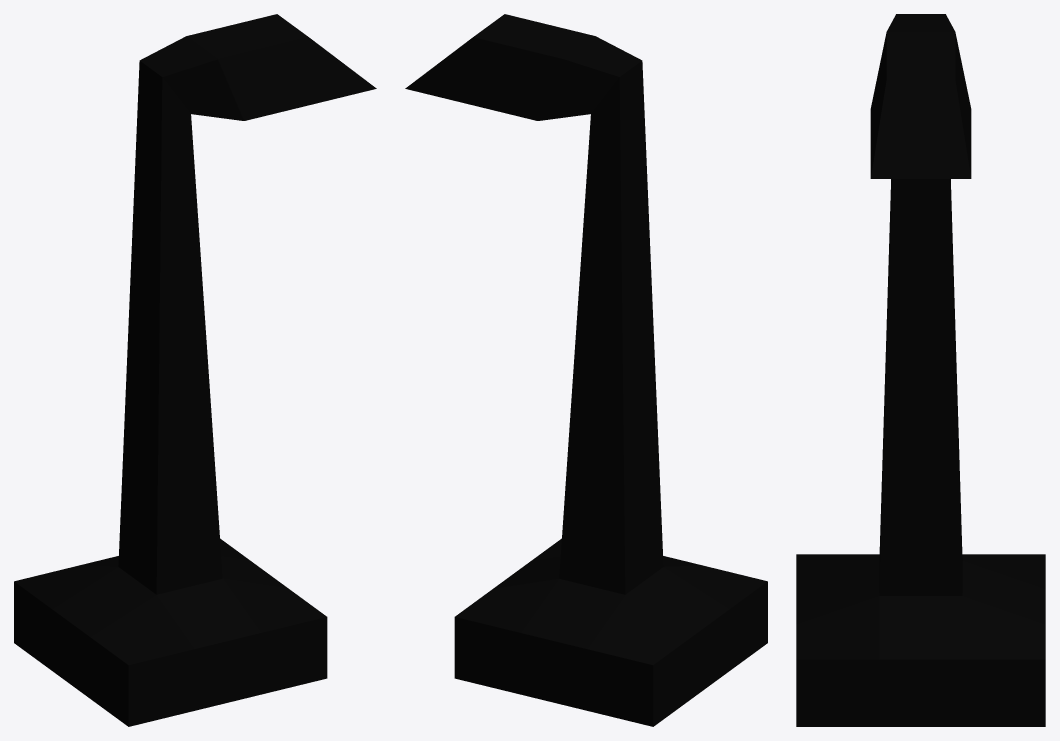
File: PowerPole.fbx
3 renders of one model, left to right at view 1: azimuth 30°, elevation 25°; view 2: azimuth 150°, elevation 25°; view 3: azimuth 270°, elevation 25°, orthographic. The views are drawn at different scales.
Visible parts, largest first — view 1: PowerPole; view 2: PowerPole; view 3: PowerPole.
Boxes of the visible parts, bbox=[...] form: PowerPole: bbox=[14, 14, 376, 726]; PowerPole: bbox=[405, 14, 767, 726]; PowerPole: bbox=[796, 14, 1045, 726].
Size of the model in its own units: 2.82 by 5.78 by 1.98.
1 material, 1 textured.
